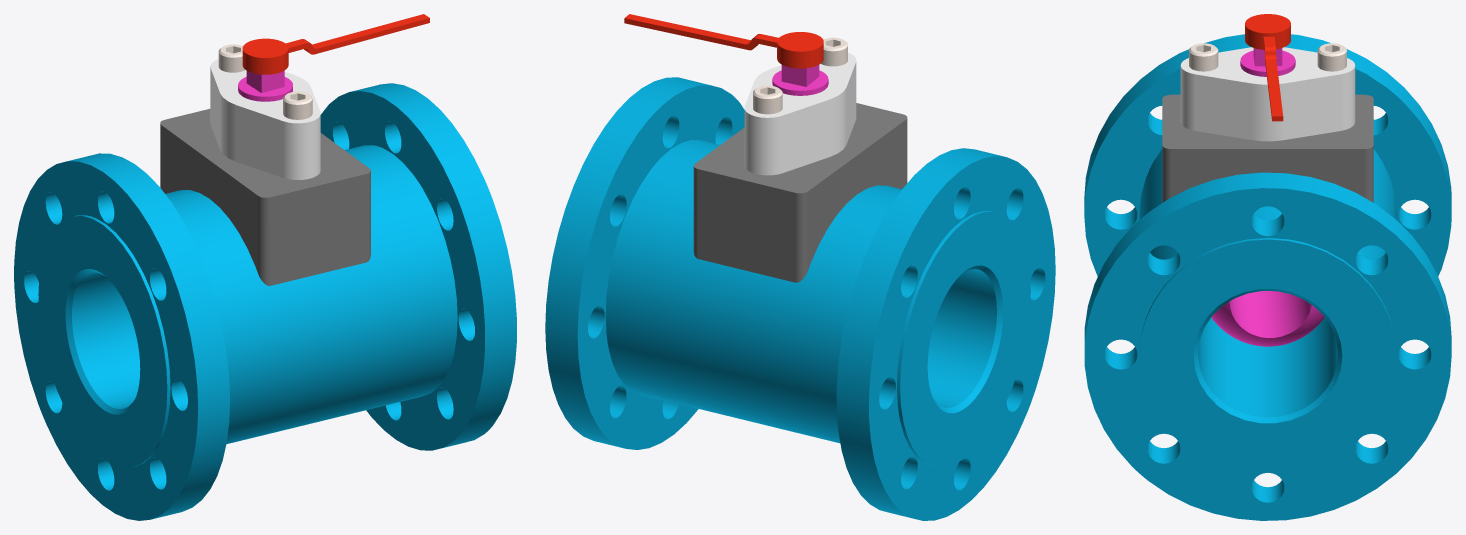
File: gate-valve-design.glb
3 views of the same model, side by side, from view 1: azimuth 30°, elevation 25°; view 2: azimuth 150°, elevation 25°; view 3: azimuth 270°, elevation 25° (orthographic).
Parts seen in each view (by area): view 1: Valve Body-1, handle-1, valve ball-1, socket head cap screw_am-2, socket head cap screw_am-1; view 2: Valve Body-1, handle-1, valve ball-1, socket head cap screw_am-1, socket head cap screw_am-2; view 3: Valve Body-1, valve ball-1, handle-1, socket head cap screw_am-2, socket head cap screw_am-1.
Part boxes in pixels (<box>): Valve Body-1: <box>14,59,516,520</box>; handle-1: <box>242,14,429,74</box>; valve ball-1: <box>238,70,292,101</box>; socket head cap screw_am-2: <box>283,91,312,119</box>; socket head cap screw_am-1: <box>218,44,245,72</box>; Valve Body-1: <box>545,52,1055,520</box>; handle-1: <box>624,14,823,68</box>; valve ball-1: <box>772,65,828,95</box>; socket head cap screw_am-1: <box>753,85,782,114</box>; socket head cap screw_am-2: <box>821,37,847,66</box>; Valve Body-1: <box>1084,34,1451,520</box>; valve ball-1: <box>1211,48,1324,346</box>; handle-1: <box>1245,14,1290,121</box>; socket head cap screw_am-2: <box>1189,43,1218,71</box>; socket head cap screw_am-1: <box>1317,43,1346,71</box>.
Size of the model in its own units: 0.2063 by 0.2519 by 0.2.
